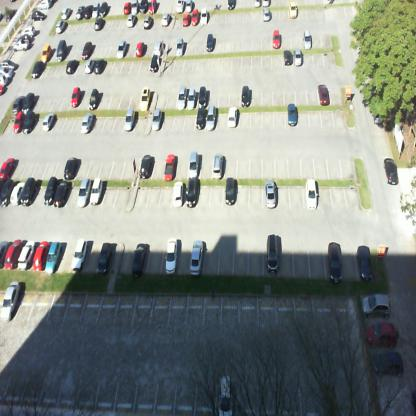car: (364, 320, 399, 349), (0, 279, 22, 322), (361, 289, 391, 320), (371, 350, 404, 378), (354, 240, 374, 277), (324, 242, 342, 280), (41, 239, 60, 273), (68, 240, 87, 274), (218, 375, 234, 415), (76, 176, 94, 210), (4, 237, 22, 271), (32, 240, 50, 273), (18, 238, 36, 271), (88, 174, 105, 208), (160, 241, 177, 274), (132, 242, 148, 277), (170, 176, 186, 210), (188, 242, 204, 276), (263, 243, 279, 277), (21, 177, 38, 208), (96, 244, 113, 274), (383, 156, 399, 186), (52, 179, 69, 207), (0, 178, 16, 207), (44, 173, 57, 208), (9, 181, 26, 206), (122, 106, 137, 134), (262, 178, 276, 208), (22, 108, 38, 134), (304, 178, 317, 209), (63, 156, 80, 179), (0, 158, 17, 181), (186, 152, 201, 178), (184, 179, 196, 210), (316, 81, 330, 107), (138, 86, 152, 112), (138, 155, 153, 179), (22, 90, 38, 112), (150, 106, 163, 133), (164, 152, 178, 177), (210, 152, 224, 177), (224, 179, 236, 208), (12, 108, 24, 135), (194, 107, 206, 133), (80, 112, 94, 134), (81, 38, 95, 60), (42, 110, 56, 132), (0, 238, 9, 271), (11, 94, 25, 115), (88, 86, 100, 110), (56, 37, 68, 61), (69, 86, 82, 108), (177, 84, 188, 110), (116, 38, 128, 60), (240, 85, 251, 108), (31, 60, 45, 78), (198, 84, 208, 109), (205, 108, 216, 130), (228, 106, 239, 128), (66, 56, 78, 76), (286, 105, 297, 126), (41, 42, 52, 63), (271, 27, 281, 50), (302, 28, 312, 50), (187, 86, 196, 110), (93, 57, 105, 75), (12, 40, 30, 52), (31, 8, 46, 22), (0, 58, 16, 71), (206, 33, 216, 53), (175, 36, 184, 58), (135, 40, 146, 58), (84, 56, 95, 74), (289, 0, 298, 21), (98, 0, 109, 17), (294, 47, 303, 67), (150, 54, 160, 72), (83, 2, 94, 18), (283, 47, 292, 66), (91, 0, 100, 19), (191, 8, 200, 27), (154, 40, 164, 57), (0, 66, 14, 78), (146, 0, 158, 14), (21, 24, 36, 35), (182, 10, 191, 28), (56, 18, 66, 34), (160, 11, 170, 27), (60, 6, 71, 20), (174, 0, 185, 14), (18, 33, 33, 43), (94, 16, 104, 31), (130, 0, 140, 15), (199, 7, 207, 25), (75, 5, 85, 19), (126, 14, 136, 28), (139, 0, 149, 14), (143, 14, 153, 28), (0, 73, 9, 88), (37, 0, 52, 9), (262, 8, 272, 21), (226, 0, 236, 13), (124, 0, 131, 14), (186, 0, 194, 12), (253, 0, 261, 8), (262, 0, 271, 7)
